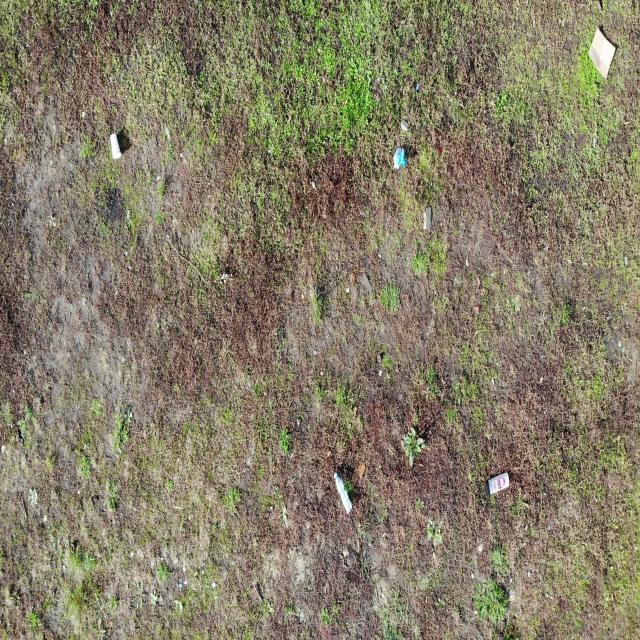rubbish: (588, 25, 616, 80), (333, 471, 354, 515), (484, 471, 510, 496), (109, 131, 123, 162), (391, 145, 406, 171)
